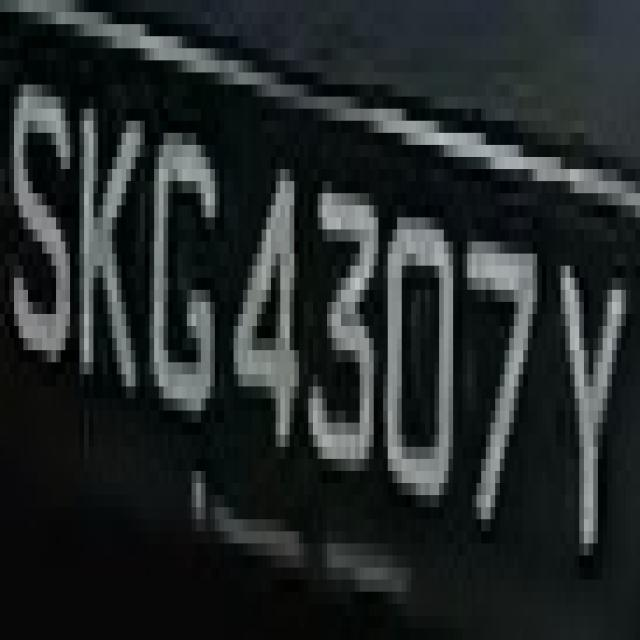0: (383, 181, 463, 519)
3: (299, 133, 383, 519)
4: (229, 181, 313, 507)
7: (448, 169, 542, 556)
G: (150, 84, 220, 434)
K: (70, 72, 140, 422)
S: (9, 24, 75, 399)
Y: (538, 242, 636, 568)
